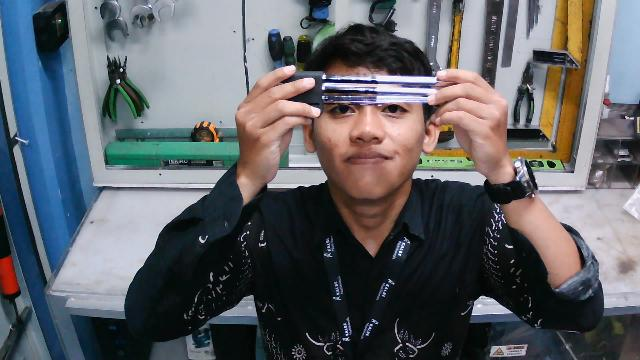kunci_l: (263, 61, 453, 119)
